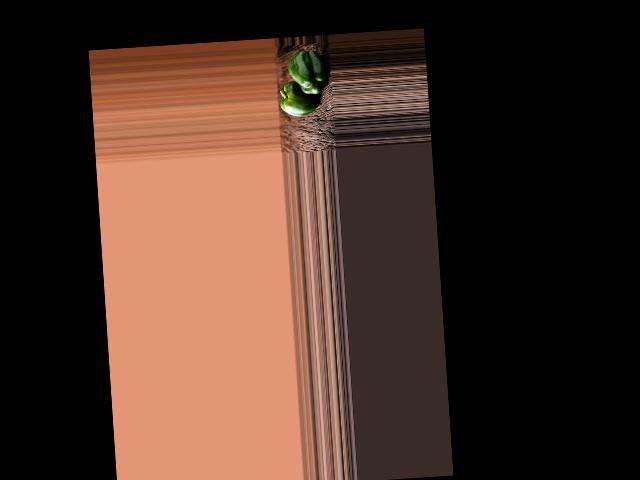bell_pepper: (286, 49, 327, 97)
